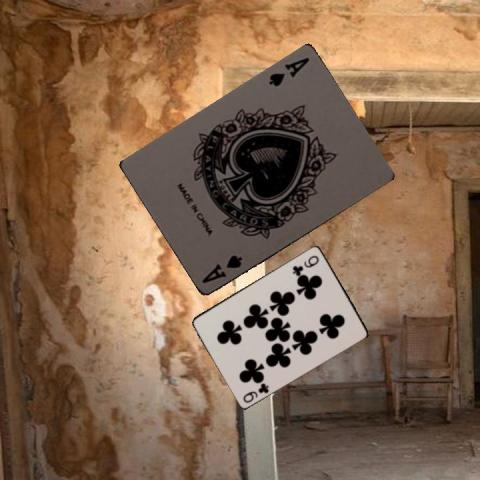9c: (240, 379, 271, 404), (289, 252, 321, 275)
As: (265, 54, 311, 89), (199, 252, 244, 285)
